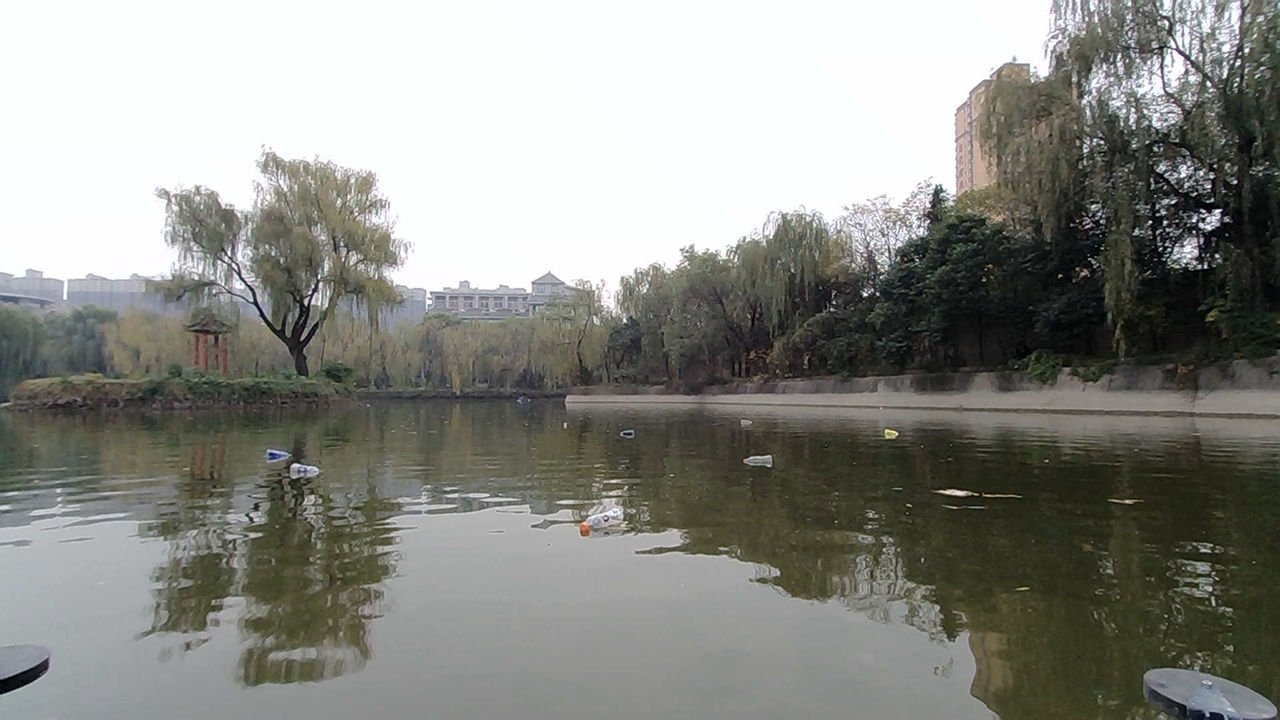bottle: (736, 435, 783, 477), (282, 447, 326, 487), (578, 508, 624, 543), (609, 409, 644, 443), (873, 418, 905, 453), (267, 444, 291, 471), (560, 418, 588, 438)
